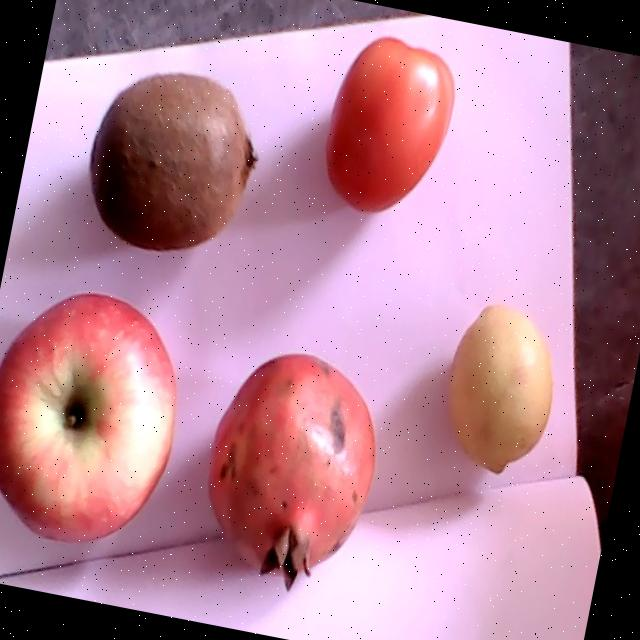apple: (0, 293, 178, 543)
kiwi: (89, 73, 259, 252)
lemon: (449, 303, 552, 475)
pomegranate: (208, 355, 374, 591)
tomato: (326, 38, 456, 214)
